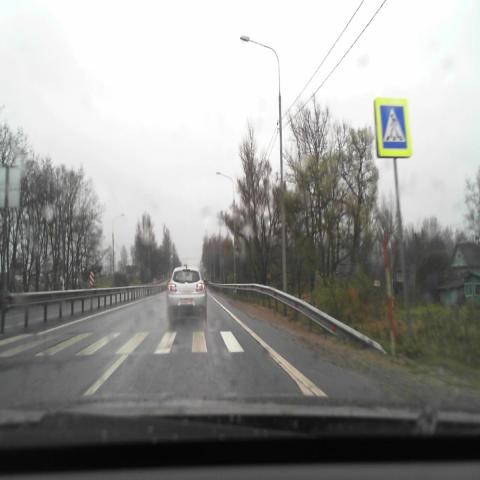5_19_1: (374, 98, 411, 158)
